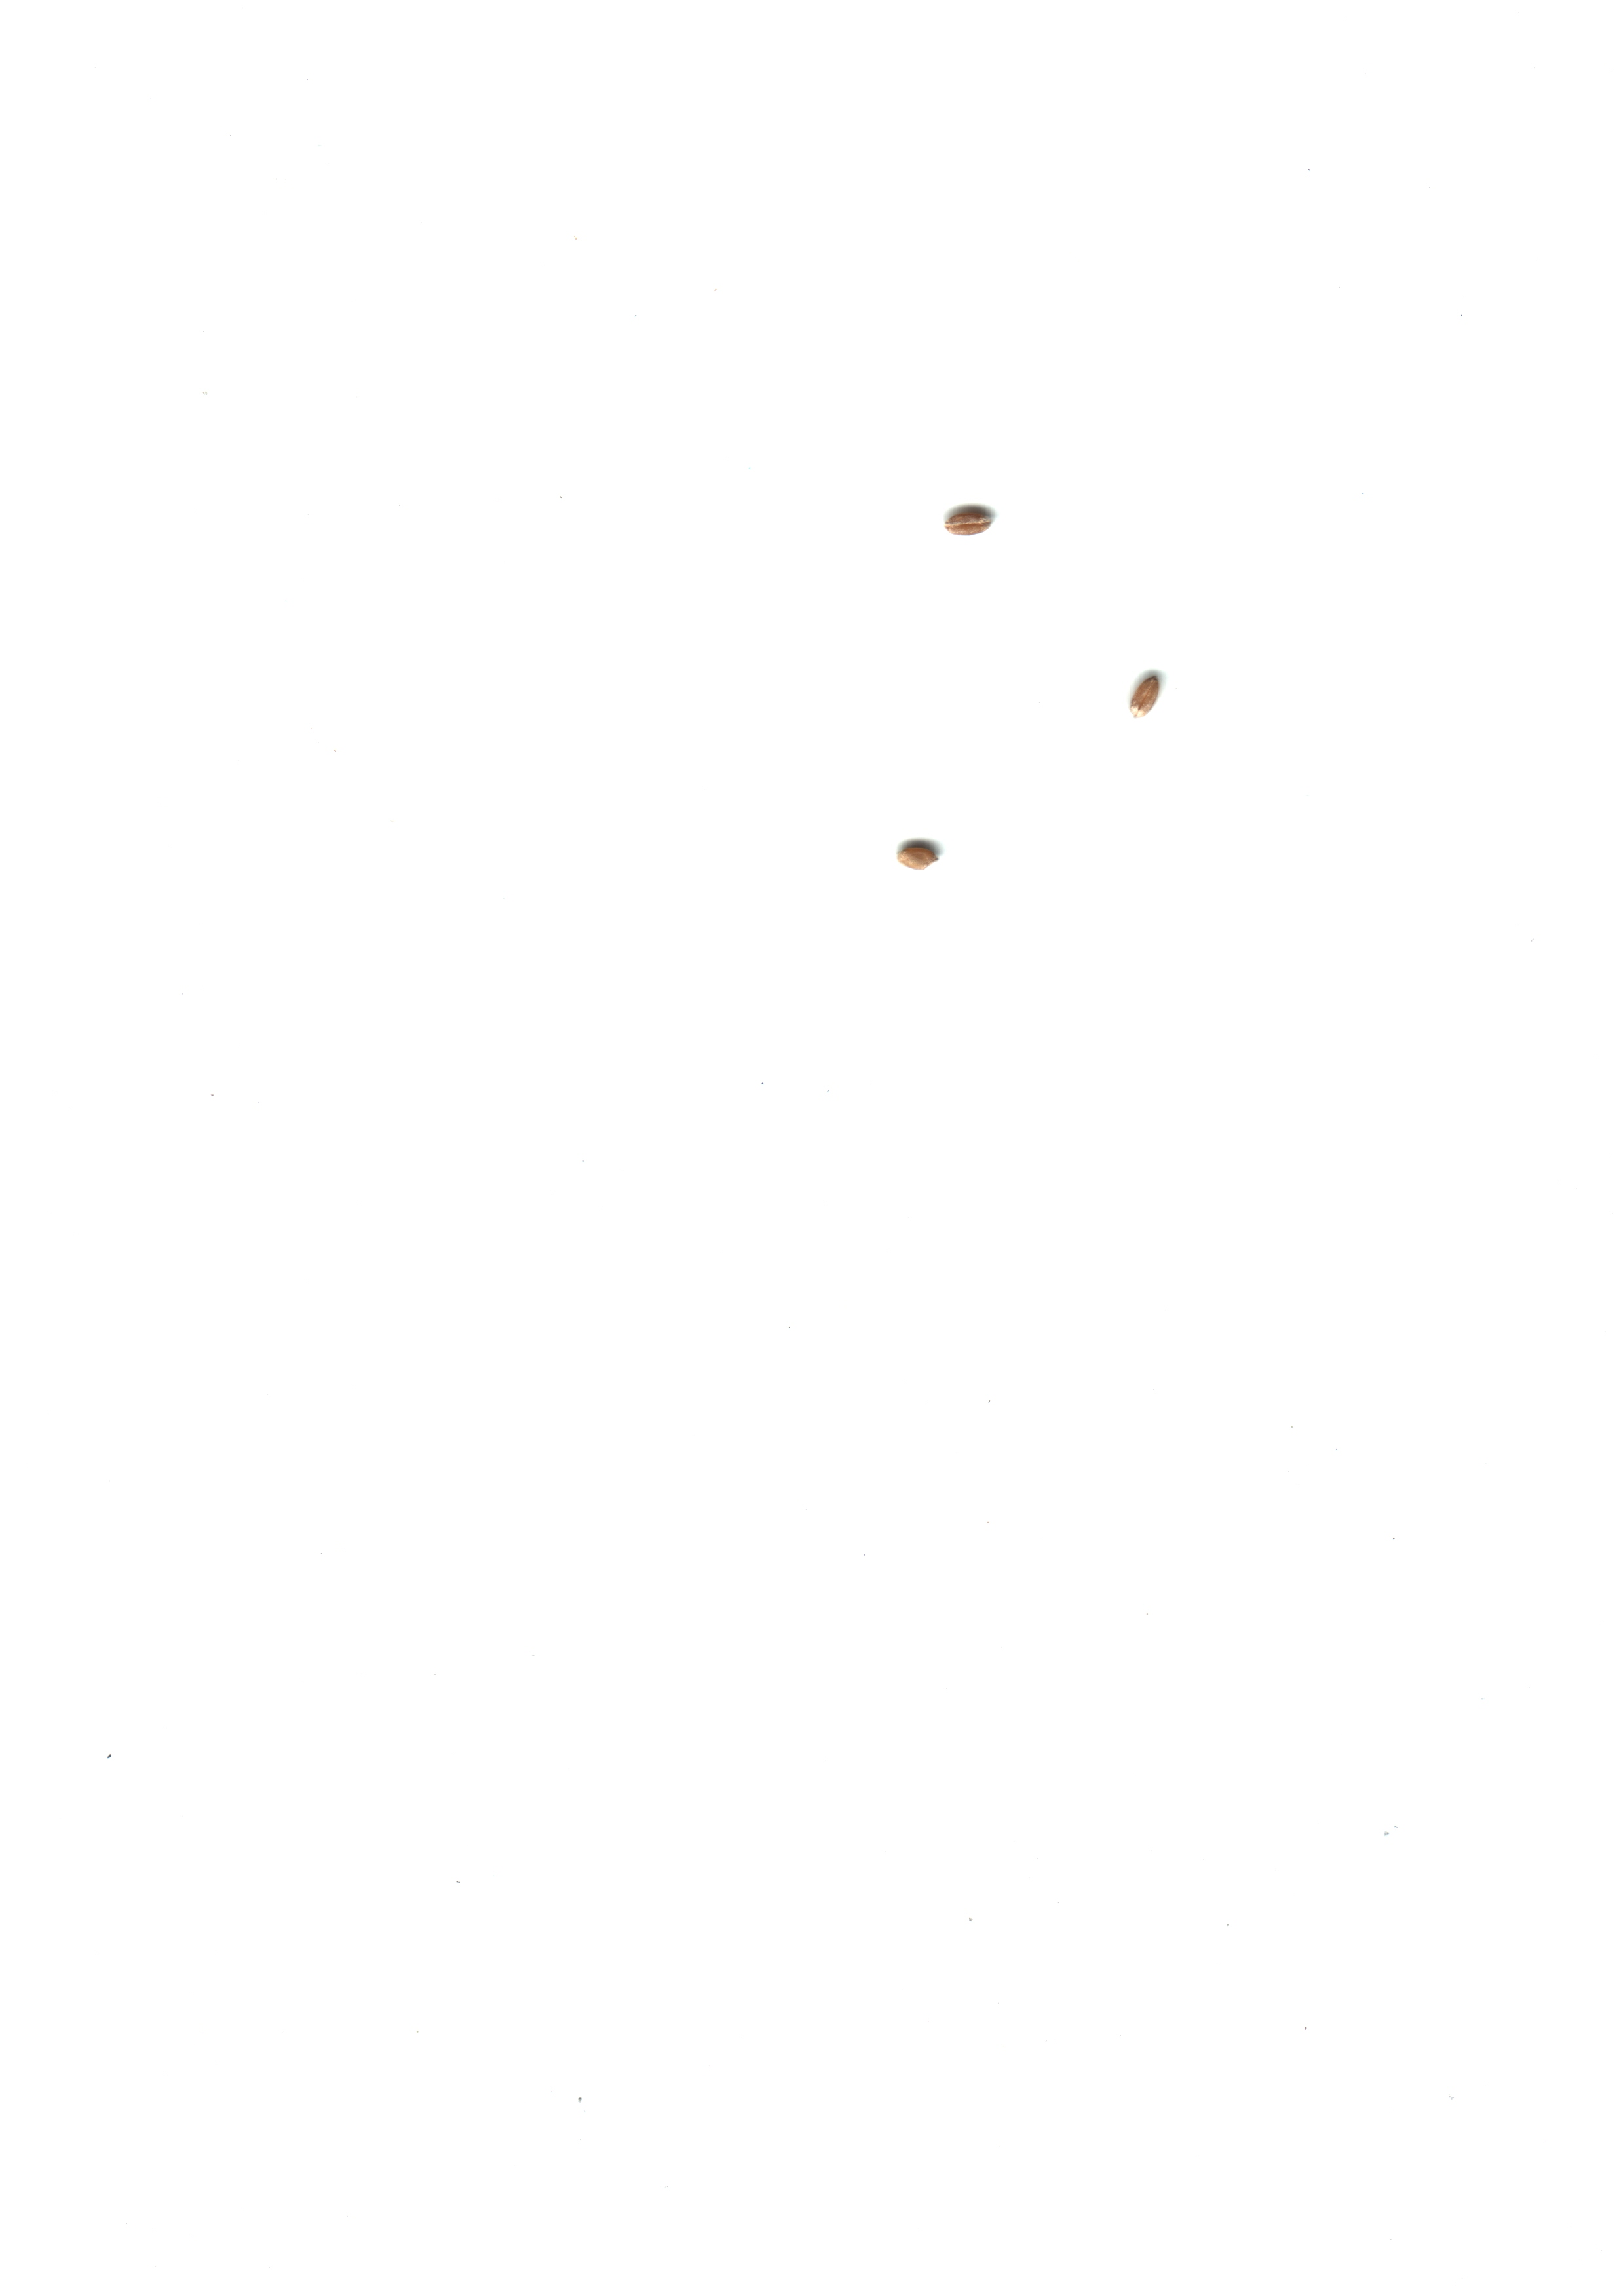grains_3mm: (925, 477, 1020, 564), (873, 818, 967, 904), (1102, 643, 1197, 729)
